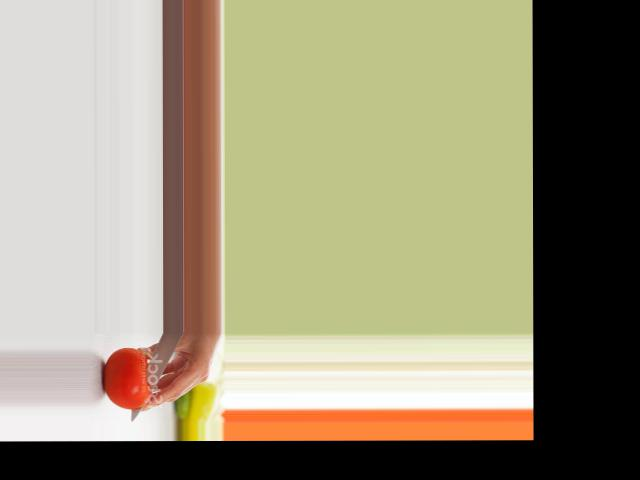tomato: (102, 346, 150, 409)
